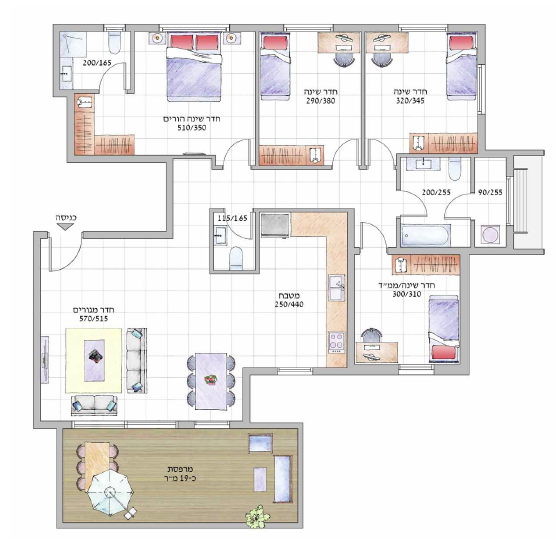door: (45, 244, 97, 284), (439, 187, 471, 224), (402, 186, 432, 220), (220, 134, 253, 162), (332, 134, 362, 164), (365, 134, 394, 165), (94, 59, 126, 85), (358, 218, 387, 243), (227, 215, 254, 241)
wall: (33, 231, 41, 429), (347, 208, 355, 375), (59, 522, 247, 527), (461, 249, 468, 372), (67, 89, 75, 163), (56, 421, 62, 518), (298, 422, 303, 528), (70, 156, 170, 161), (242, 368, 250, 424), (54, 24, 60, 96), (84, 232, 168, 237), (338, 24, 397, 31), (167, 156, 171, 237), (233, 25, 279, 31)
window: (277, 361, 313, 374), (504, 174, 513, 225), (284, 26, 335, 34), (476, 64, 484, 115), (398, 361, 435, 372), (159, 27, 230, 32), (399, 26, 448, 33), (103, 26, 126, 32)
